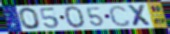5: (38, 6, 61, 30), (85, 6, 106, 27)
C: (107, 4, 132, 27)
O: (63, 5, 87, 29), (17, 7, 42, 30)
X: (126, 4, 155, 27)
